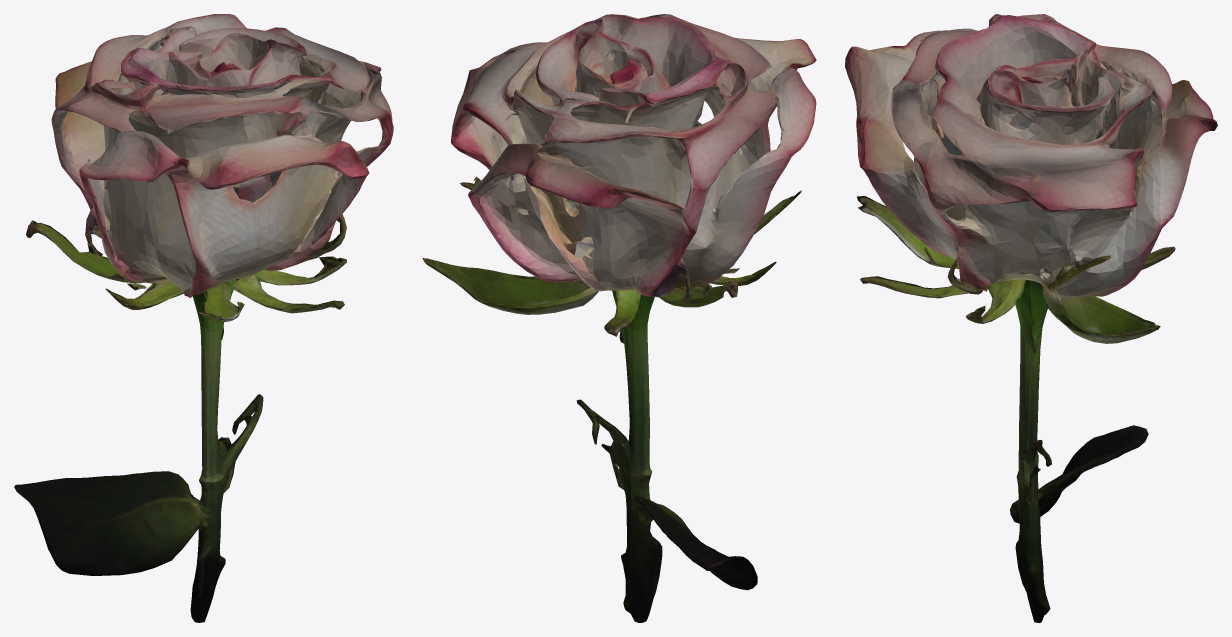
3 views of the same model, side by side, from view 1: azimuth 30°, elevation 25°; view 2: azimuth 150°, elevation 25°; view 3: azimuth 270°, elevation 25° (orthographic).
Parts seen in each view (by area): view 1: world; view 2: world; view 3: world.
Part boxes in pixels (x1,y1,x2,y2): world: [14, 14, 393, 622]; world: [422, 14, 816, 622]; world: [845, 14, 1217, 622].
Size of the model in its own units: 0.5694 by 0.9949 by 0.58.
Materials: 1 (1 with a texture image).
